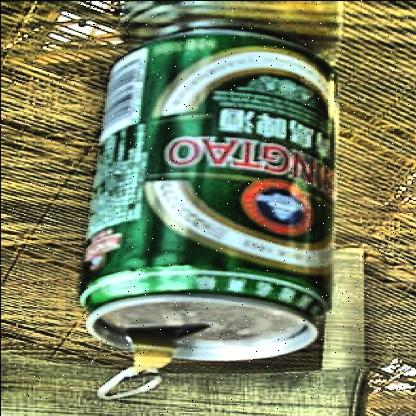Can: (76, 27, 340, 361)
